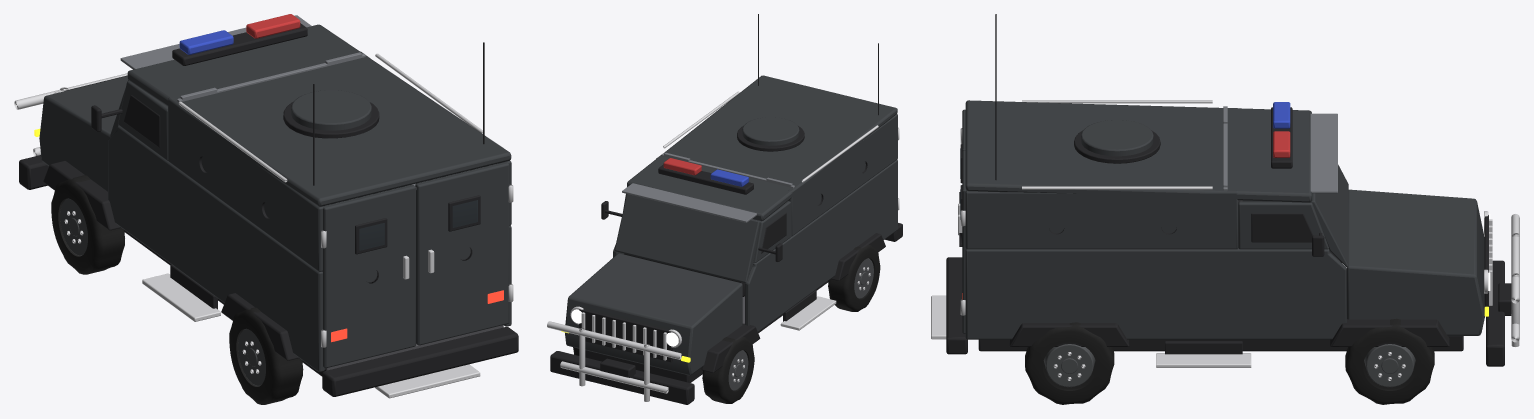
Rendered from blinde.glb.
The picture shows the model from 3 angles, left to right: view 1: azimuth 30°, elevation 25°; view 2: azimuth 150°, elevation 25°; view 3: azimuth 270°, elevation 25°; orthographic projection. The views are drawn at different scales.
Visible parts, largest first — view 1: roof, side-1, door_R, door_L, sideup-1, hood, rbumper, wheel_FL, wheel_RL, hatch, lbar, fender-11 (+16 smaller); view 2: roof, hood, side-1, wsframe, sideup-1, wheel_FL, wheel_RL, bumper, grille, iceil, hatch, pbh1 (+14 smaller); view 3: side1, roof, hood, sideup1, wheel_FR, wheel_RR, frame, iceil, pillar1, hatch, wsframe, fender11 (+13 smaller).
Part boxes in pixels (box(x1,y1,x2,y2)): roof: box(127, 24, 511, 206); side-1: box(108, 125, 324, 371); door_R: box(415, 162, 513, 345); door_L: box(321, 184, 415, 368); sideup-1: box(168, 97, 323, 271); hood: box(39, 76, 127, 191); rbumper: box(322, 327, 518, 396); wheel_FL: box(51, 175, 124, 274); wheel_RL: box(229, 307, 303, 404); hatch: box(291, 90, 371, 130); lbar: box(172, 23, 307, 65); fender-11: box(43, 160, 120, 230); roof: box(627, 75, 897, 221); hood: box(565, 253, 742, 375); side-1: box(745, 159, 897, 331); wsframe: box(614, 194, 760, 282); sideup-1: box(788, 114, 897, 236); wheel_FL: box(702, 337, 754, 403); wheel_RL: box(828, 245, 880, 311); bumper: box(550, 351, 694, 404); grille: box(579, 309, 672, 362); iceil: box(622, 183, 756, 222); hatch: box(742, 117, 799, 145); pbh1: box(547, 321, 681, 359); side1: box(965, 248, 1346, 339); roof: box(965, 100, 1311, 202); hood: box(1346, 189, 1484, 335); sideup1: box(965, 190, 1238, 249); wheel_FR: box(1345, 318, 1434, 404); wheel_RR: box(1025, 322, 1114, 404); frame: box(978, 336, 1463, 351); iceil: box(1310, 113, 1337, 193); pillar1: box(1238, 201, 1328, 249); hatch: box(1081, 120, 1153, 156); wsframe: box(1311, 164, 1348, 266); fender11: box(1330, 319, 1449, 346).
Size of the model in its own units: 3.02 by 3.93 by 6.8.
